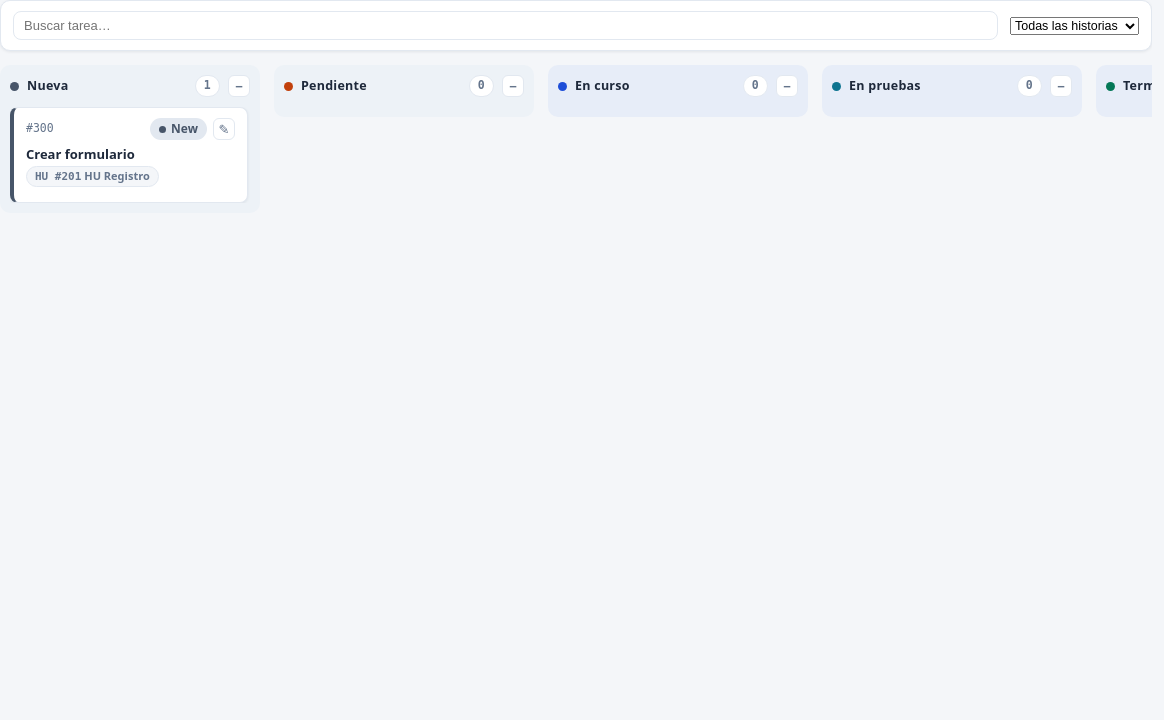
Scenario: Edición QA de tareas › no ofrece prioridad ni severidad, que no existen en tareas
Click the button named "editar tarea #300 (QA)" at {"x": 224, "y": 129}, box [213,118,235,140]
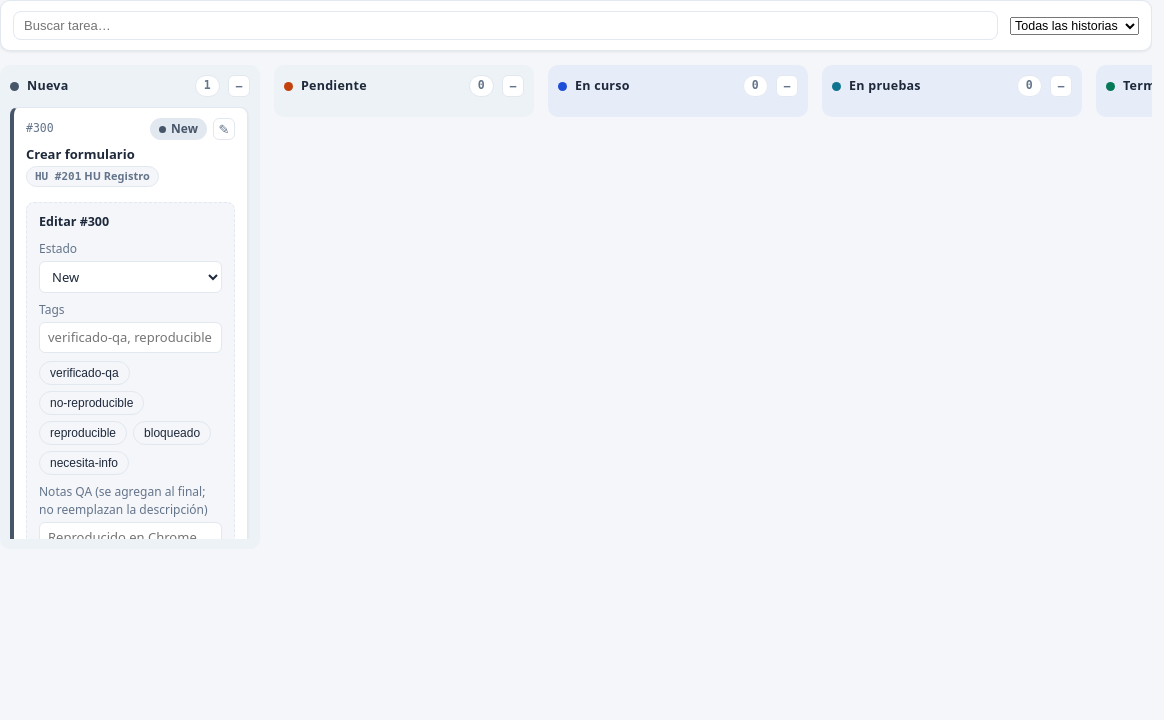
Now the dropdown labelled "Estado" is shown, box [39,261,222,293]
Now the field labelled "Tags" is shown, box [39,322,222,353]
